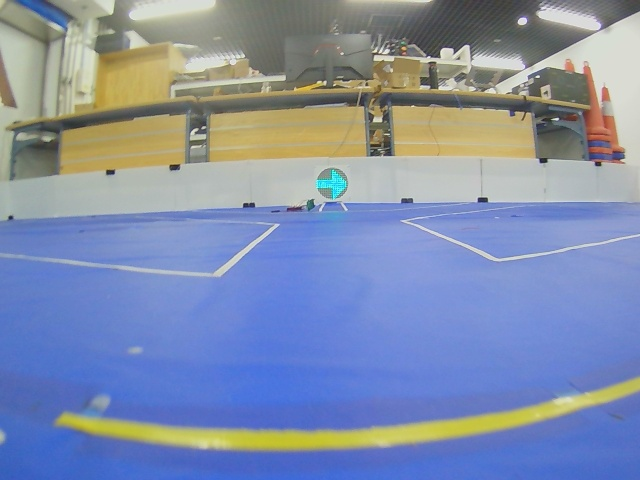right_green: (316, 168, 349, 200)
